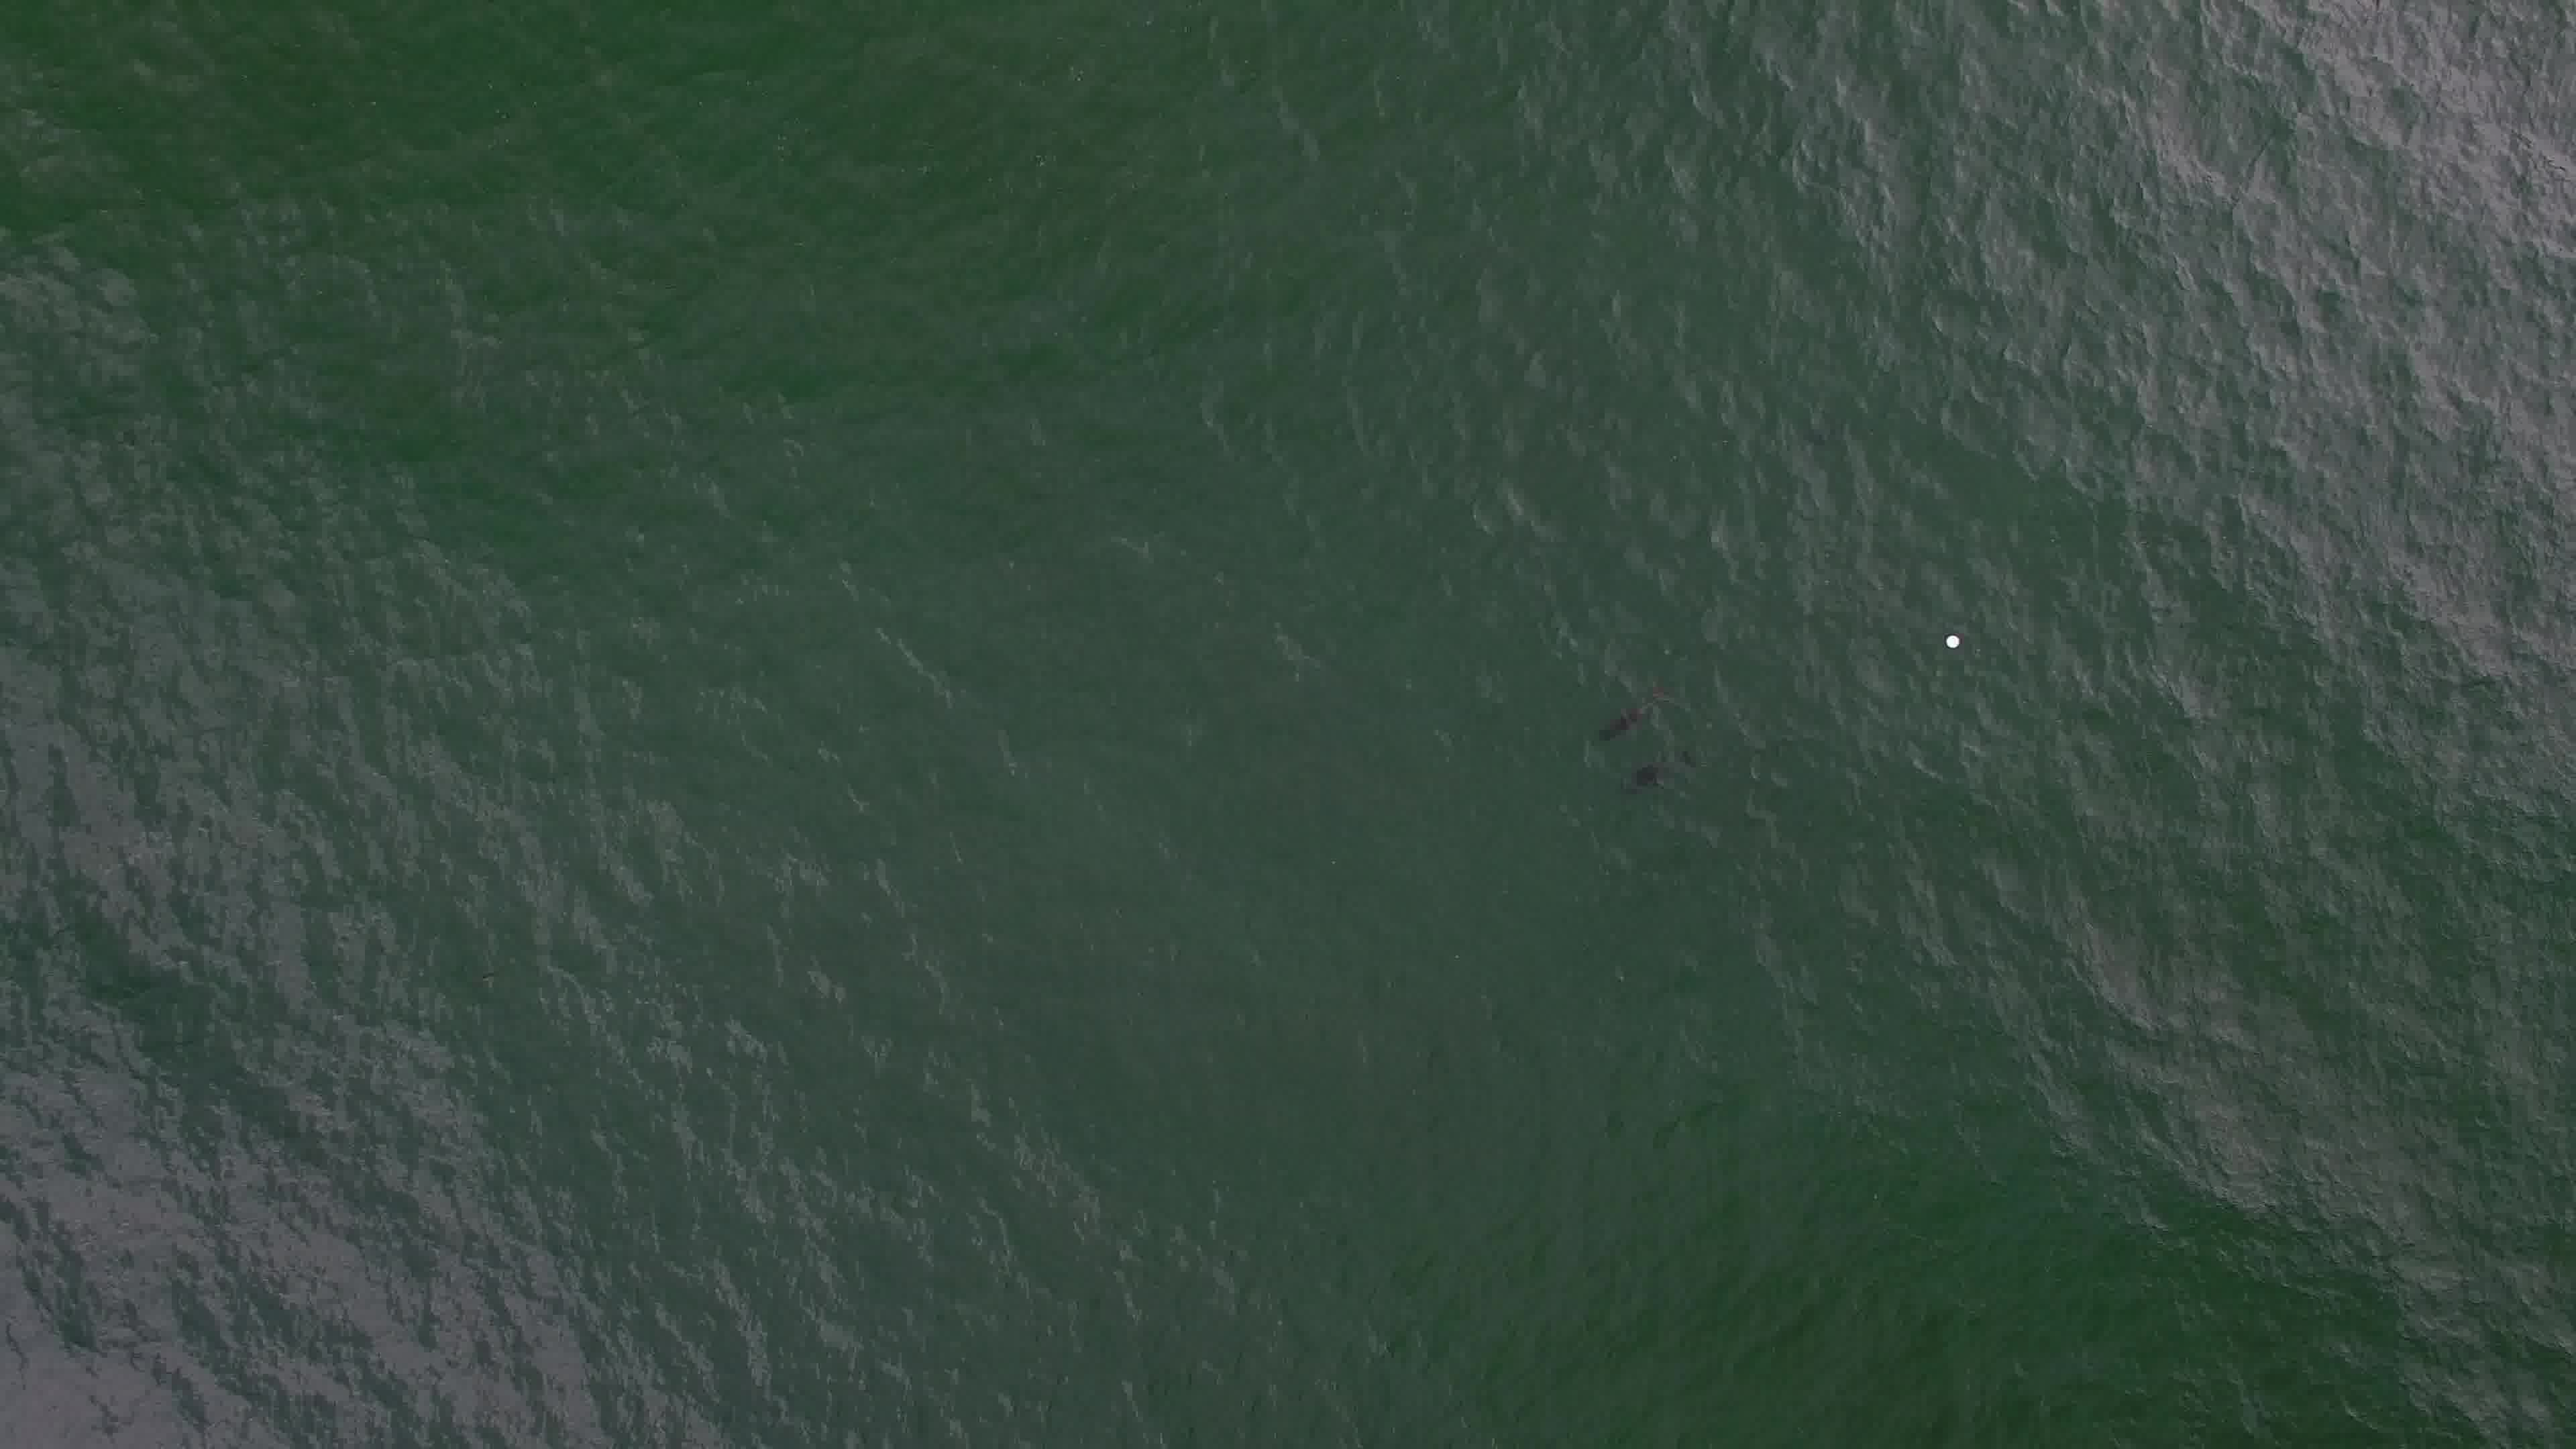dolphin: (1573, 656, 1677, 761), (1606, 734, 1702, 805)
